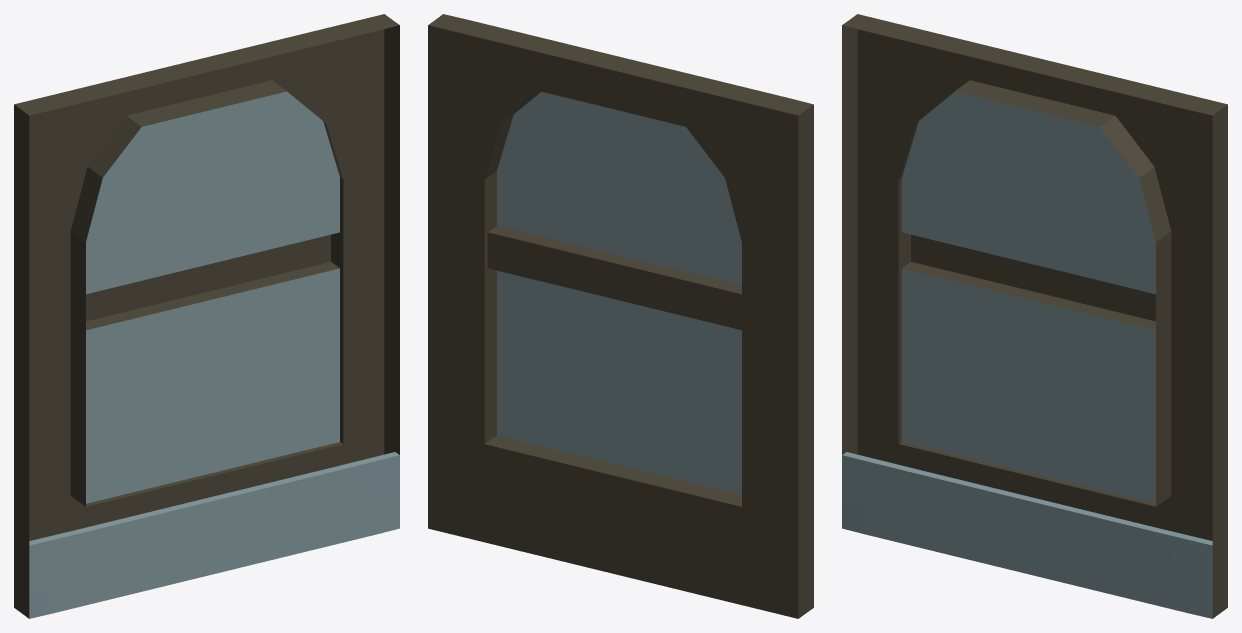
The model's file is WindowS.fbx.
3 views of the same model, side by side, from view 1: azimuth 30°, elevation 25°; view 2: azimuth 150°, elevation 25°; view 3: azimuth 330°, elevation 25° (orthographic).
Visible parts, largest first — view 1: WindowS; view 2: WindowS; view 3: WindowS.
Boxes of the visible parts, left/top/right/bottom form: WindowS: left=14, top=14, right=399, bottom=618; WindowS: left=428, top=14, right=813, bottom=618; WindowS: left=842, top=14, right=1227, bottom=618.
Size of the model in its own units: 140 by 10.19 by 182.
